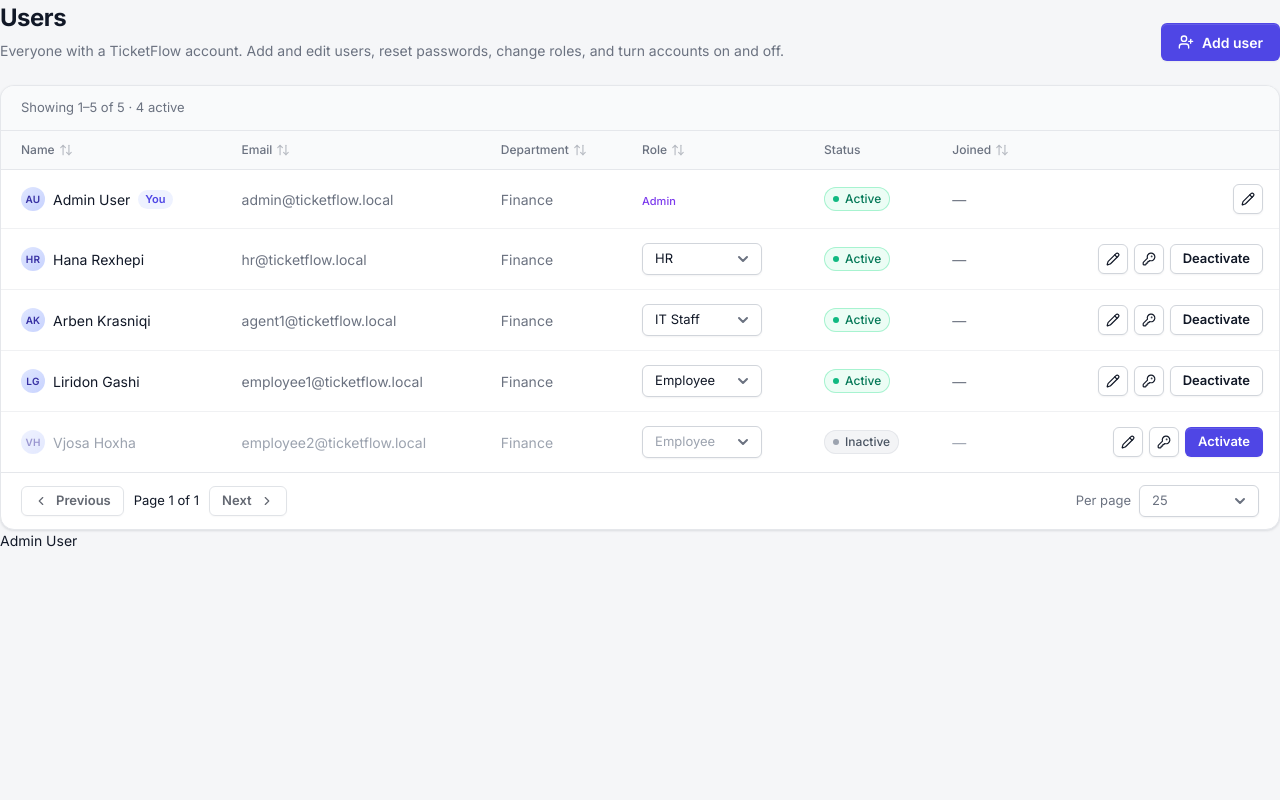
Test: Reset password › asks first; Cancel (or Escape) resets nothing
Expected: the table is shown, [1,131,1279,472]
Click the button named "Reset password for Arben Krasniqi": (1149, 320) [1134,305,1164,335]
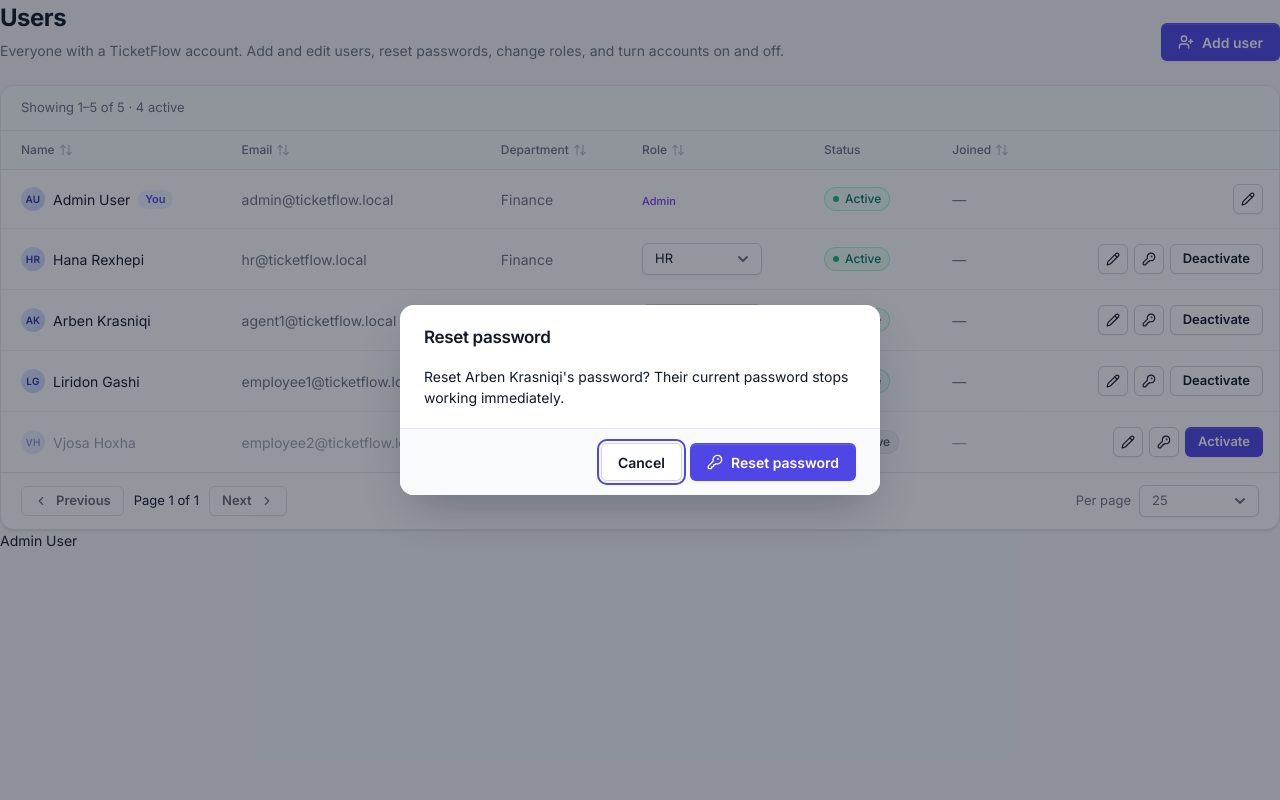
Click the button "Cancel": (642, 462) [601,443,682,481]
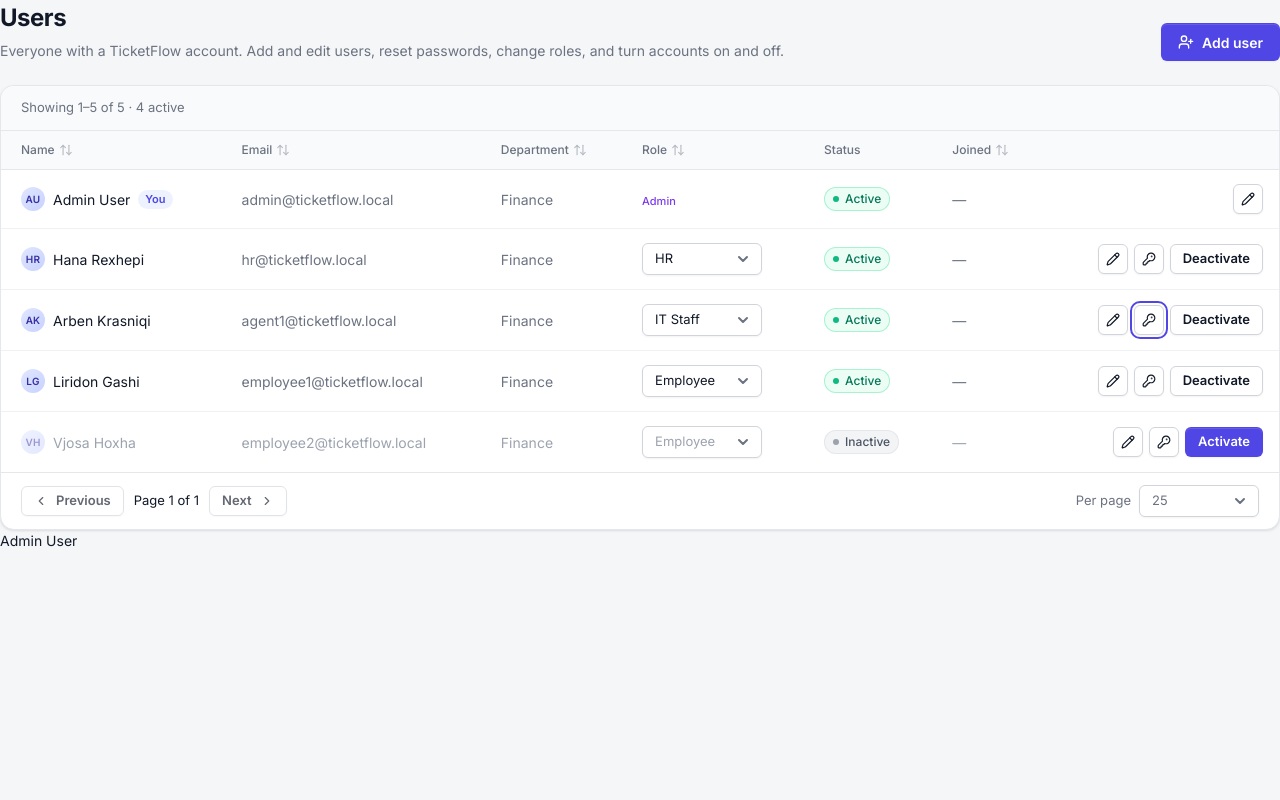
Expected: the table is shown, [1,131,1279,472]
Result: the dialog is gone
Click the button named "Reset password for Arben Krasniqi": (1149, 320) [1134,305,1164,335]
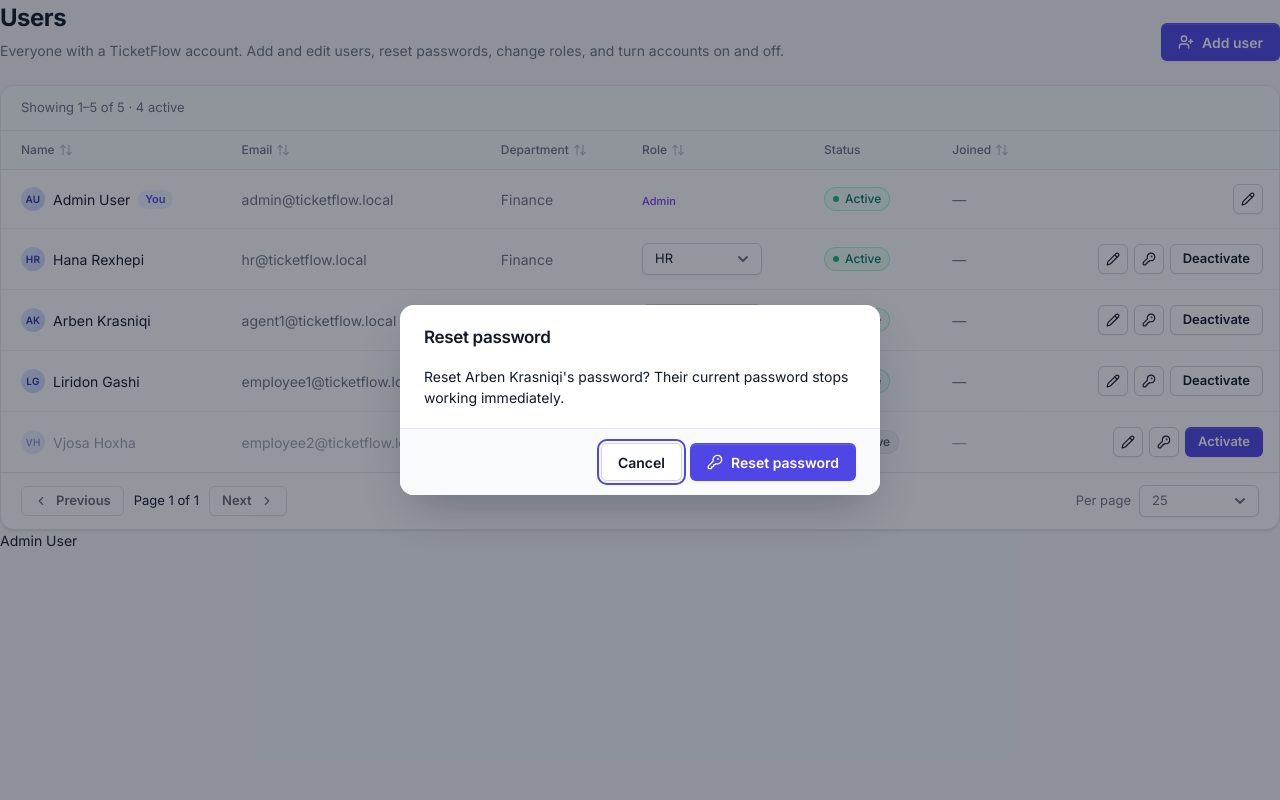
Press Escape
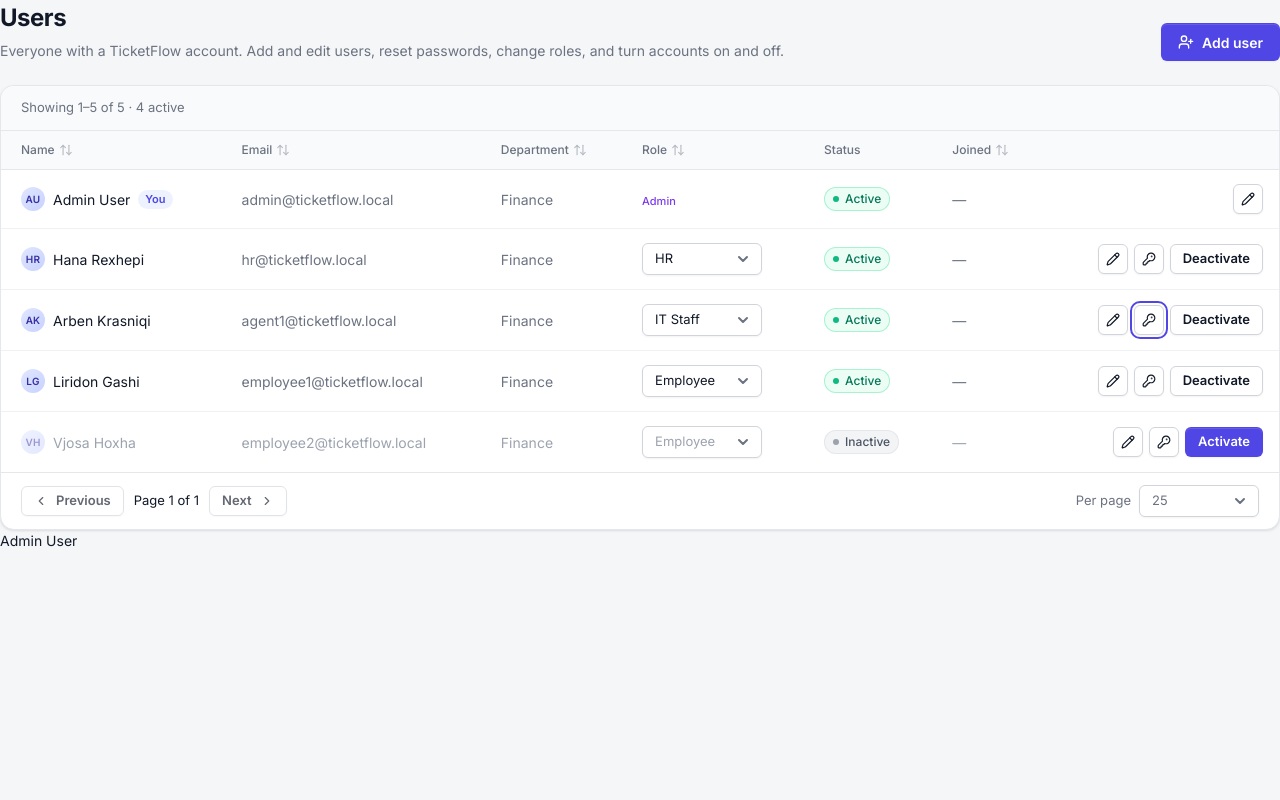
Result: the dialog is gone
